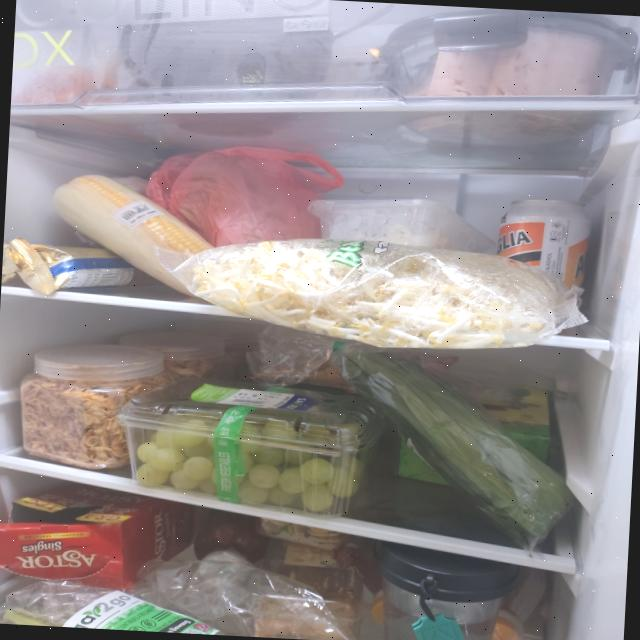bean_sprouts: (184, 230, 566, 358)
corn: (48, 172, 220, 299)
grape: (134, 405, 368, 516)
leafy_greens: (333, 347, 586, 549)
unknown_bag: (143, 140, 346, 254)
